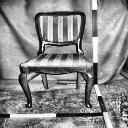chair_success: (12, 3, 100, 112)
